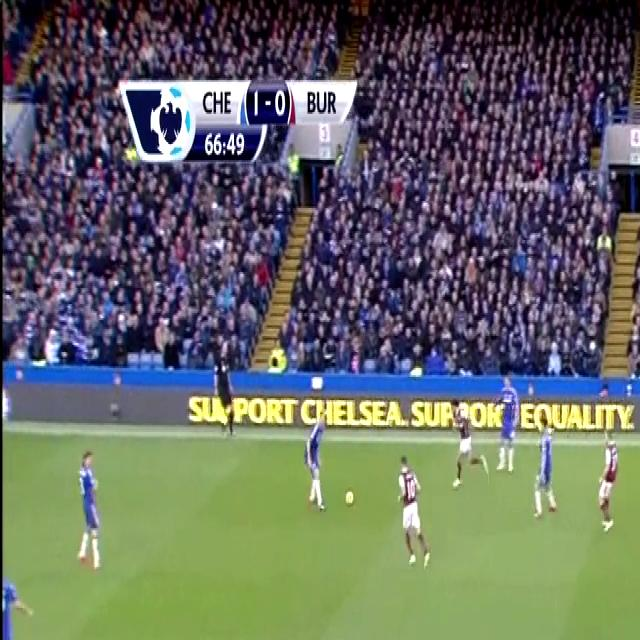ball: (344, 483, 359, 518)
referee: (208, 337, 245, 442)
soccer-player: (391, 446, 439, 581), (65, 440, 106, 583), (529, 407, 564, 531), (588, 422, 623, 537), (297, 399, 330, 519), (446, 394, 482, 499), (493, 368, 523, 481), (632, 627, 640, 640)
